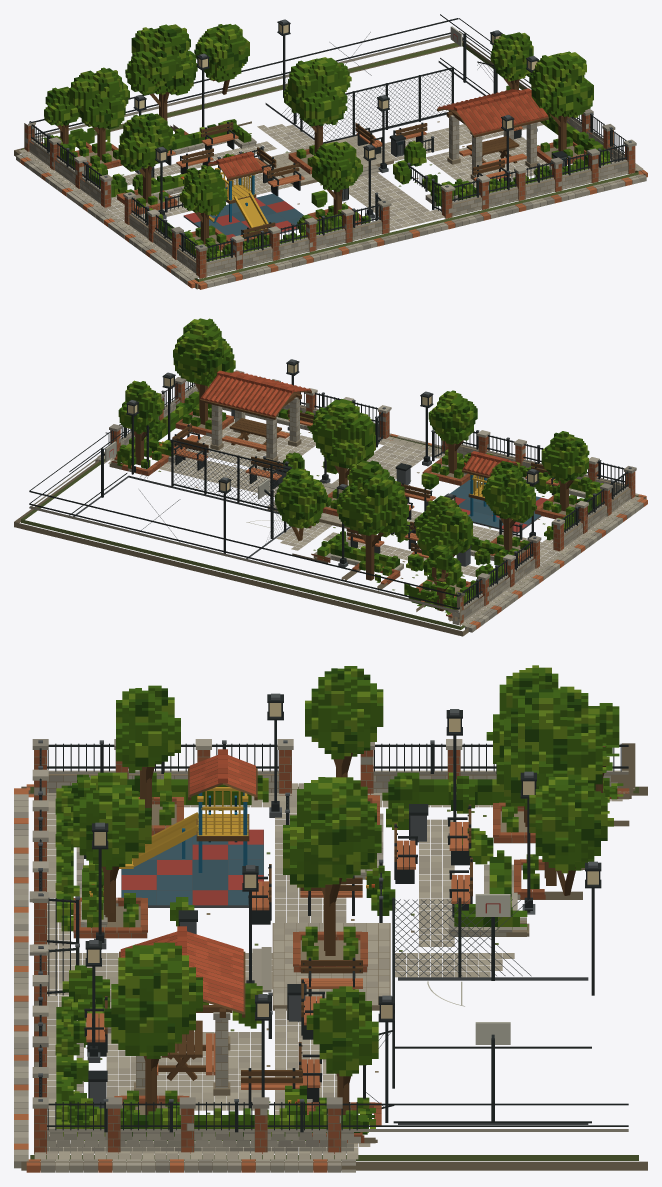
File: SM_StreetFrontage_112.fbx
The picture shows the model from 3 angles, top to bottom: view 1: azimuth 30°, elevation 25°; view 2: azimuth 150°, elevation 25°; view 3: azimuth 270°, elevation 25°; orthographic projection. The views are drawn at different scales.
Visible parts, largest first — view 1: SM_StreetFrontage_112; view 2: SM_StreetFrontage_112; view 3: SM_StreetFrontage_112.
Boxes of the visible parts, box(x1,y1,x2,y2) form: SM_StreetFrontage_112: box(14, 14, 647, 289); SM_StreetFrontage_112: box(14, 318, 647, 636); SM_StreetFrontage_112: box(14, 665, 647, 1172).
Bounding box in the file's own units: 80 × 56.2 × 19.9.
